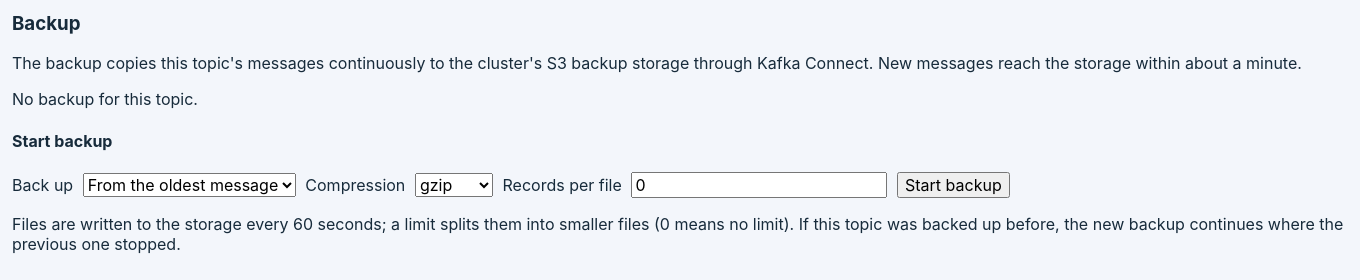
Test: TopicBackup › offers a Start form for a topic without a backup and shows the new backup
Click the button "Start backup". click: (953, 185)
box: [897,172,1010,198]
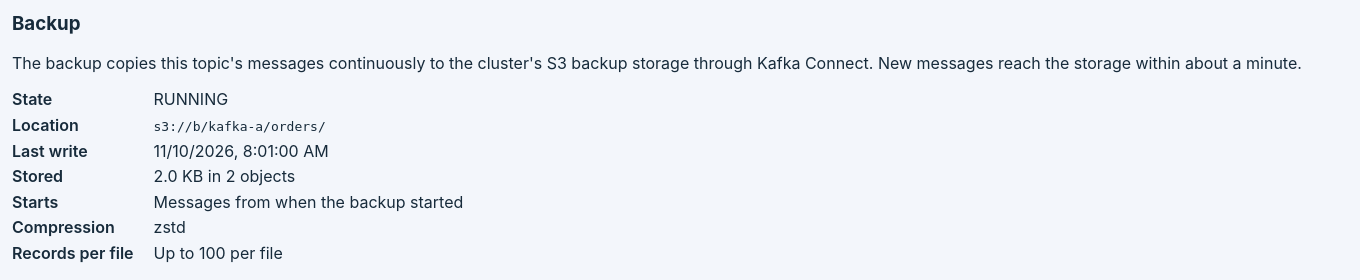
Now the text "RUNNING" is shown, box [154,89,228,109]
Now the heading "Start backup" is gone
